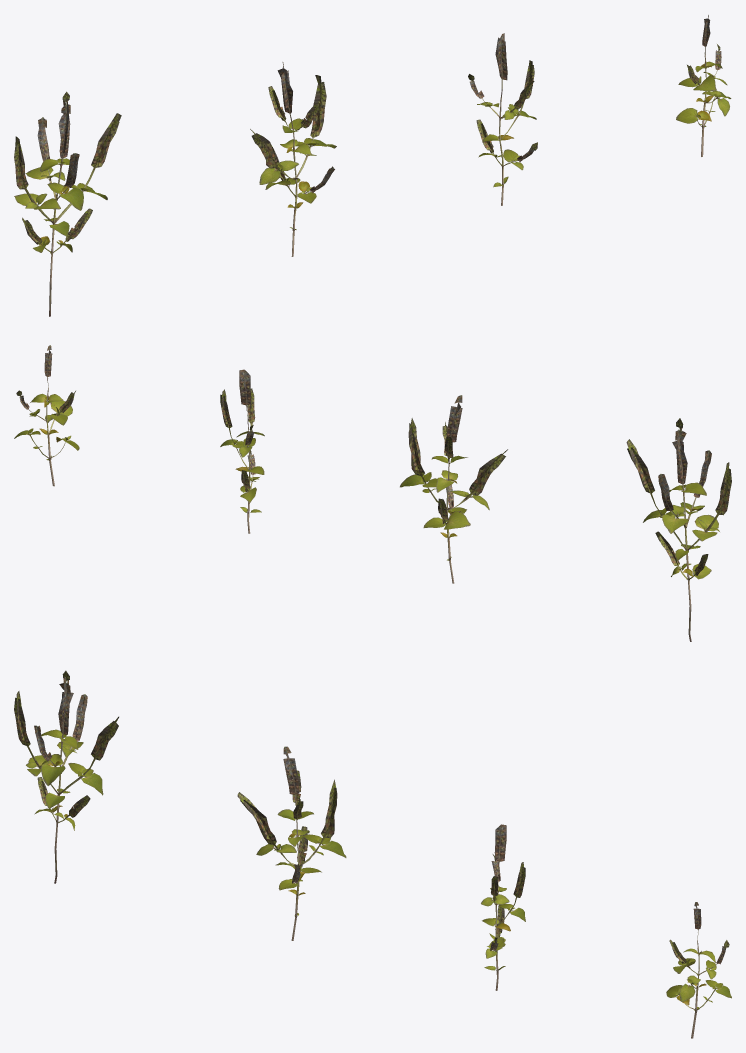
File: shrub.glb
3 views of the same model, one above another, from view 1: azimuth 30°, elevation 25°; view 2: azimuth 150°, elevation 25°; view 3: azimuth 330°, elevation 25° (orthographic). The views are drawn at different scales.
Visible parts, largest first — view 1: shrub_03; view 2: shrub_03; view 3: shrub_03.
Part boxes in pixels (x1,y1,x2,y2): shrub_03: [14, 15, 731, 316]; shrub_03: [14, 345, 731, 641]; shrub_03: [14, 670, 731, 1038].
Size of the model in its own units: 1.37 by 0.4028 by 0.1512.
1 material, 1 textured.
